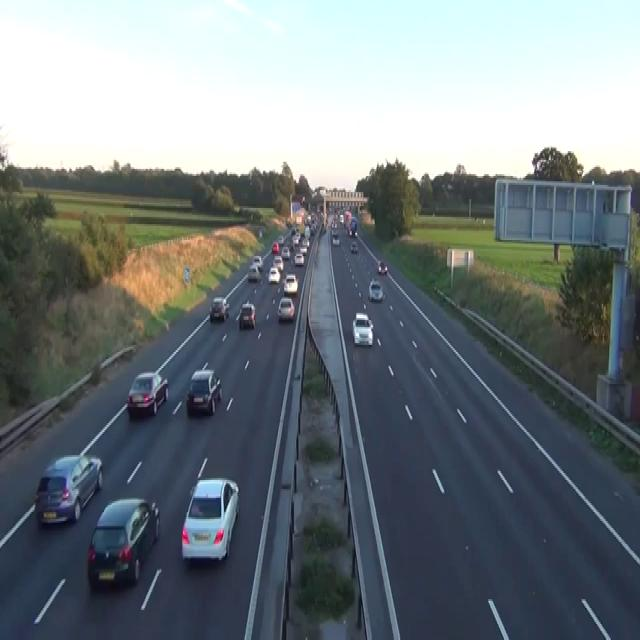Car: (87, 496, 160, 588), (181, 476, 239, 562), (34, 454, 103, 526), (126, 370, 168, 416), (186, 368, 222, 414), (352, 311, 373, 345), (236, 302, 256, 329), (209, 297, 229, 322), (277, 297, 295, 320), (368, 278, 384, 300), (283, 272, 298, 293), (247, 263, 260, 281), (268, 266, 280, 282), (252, 254, 263, 270), (273, 254, 283, 270), (377, 260, 388, 274), (291, 228, 300, 245), (222, 297, 229, 318), (294, 251, 304, 265), (281, 246, 290, 260), (285, 238, 294, 249), (350, 240, 358, 252), (331, 233, 339, 245), (271, 240, 279, 252), (300, 237, 309, 247), (350, 217, 357, 229), (299, 244, 307, 254), (331, 224, 338, 235), (304, 226, 310, 238), (292, 235, 299, 245), (277, 234, 284, 243), (286, 217, 293, 226), (339, 213, 344, 224), (321, 222, 326, 233), (345, 210, 351, 218), (309, 226, 315, 234), (291, 228, 296, 235), (259, 228, 262, 236)
